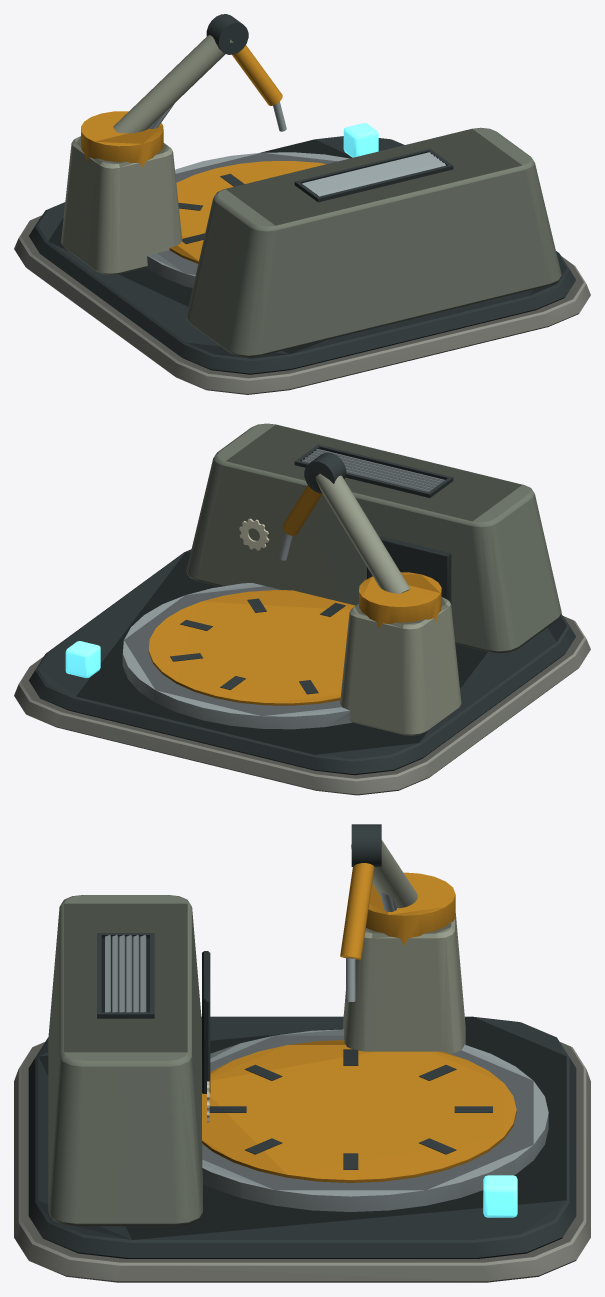
File: RepairDepot.glb
3 views of the same model, one above another, from view 1: azimuth 30°, elevation 25°; view 2: azimuth 150°, elevation 25°; view 3: azimuth 270°, elevation 25° (orthographic). The views are drawn at different scales.
Parts seen in each view (by area): view 1: export_RepairDepot_Footing, export_RepairDepot_CraneTurret; view 2: export_RepairDepot_Footing, export_RepairDepot_CraneTurret; view 3: export_RepairDepot_Footing, export_RepairDepot_CraneTurret.
Boxes of the visible parts, box(x1,y1,x2,y2) form: export_RepairDepot_Footing: box(14, 123, 590, 394); export_RepairDepot_CraneTurret: box(81, 14, 286, 167); export_RepairDepot_Footing: box(14, 423, 590, 795); export_RepairDepot_CraneTurret: box(279, 452, 441, 628); export_RepairDepot_Footing: box(14, 895, 590, 1282); export_RepairDepot_CraneTurret: box(340, 824, 455, 1001).
Size of the model in its own units: 5.39 by 3.15 by 5.39.
